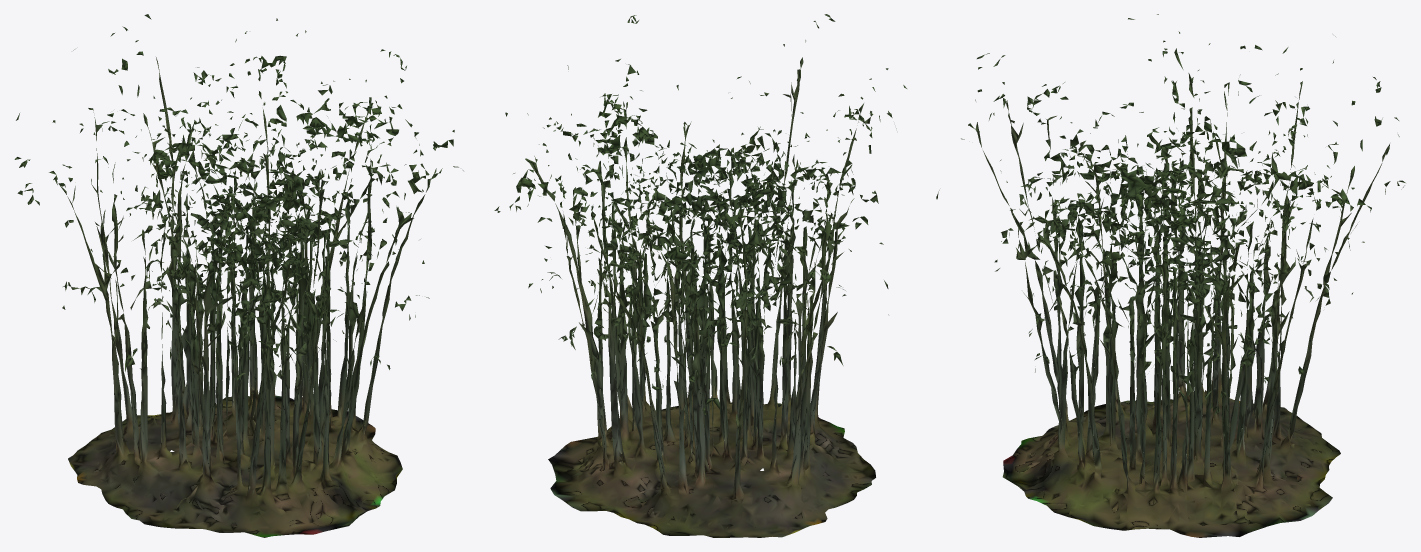
File: bamboo.1.glb
3 renders of one model, left to right at view 1: azimuth 30°, elevation 25°; view 2: azimuth 150°, elevation 25°; view 3: azimuth 270°, elevation 25°, orthographic. The views are drawn at different scales.
Parts seen in each view (by area): view 1: lod; view 2: lod; view 3: lod.
Part boxes in pixels (box(x1,y1,x2,y2)): lod: box(14, 14, 463, 537); lod: box(494, 14, 906, 537); lod: box(936, 14, 1405, 537).
Bounding box in the file's own units: 0.8695 × 0.9176 × 0.9411.
